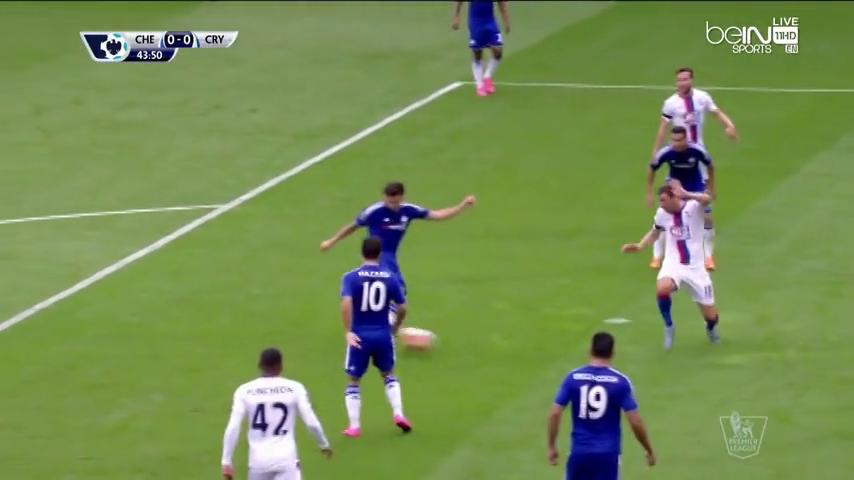football: (403, 326, 433, 351)
